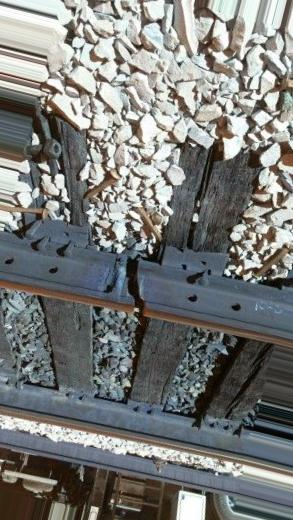tracks_fault: (92, 231, 170, 329)
